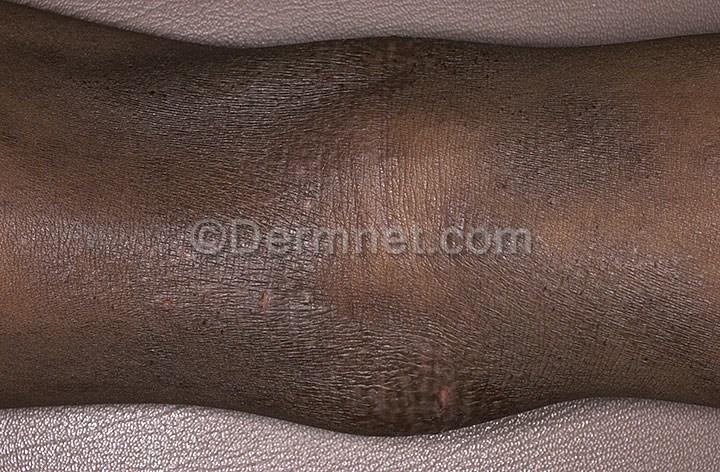liquenificacion 2: (12, 10, 720, 439)
xerosis 3: (8, 0, 720, 440)
